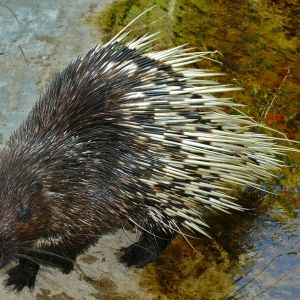porcupine: (1, 26, 288, 295)
